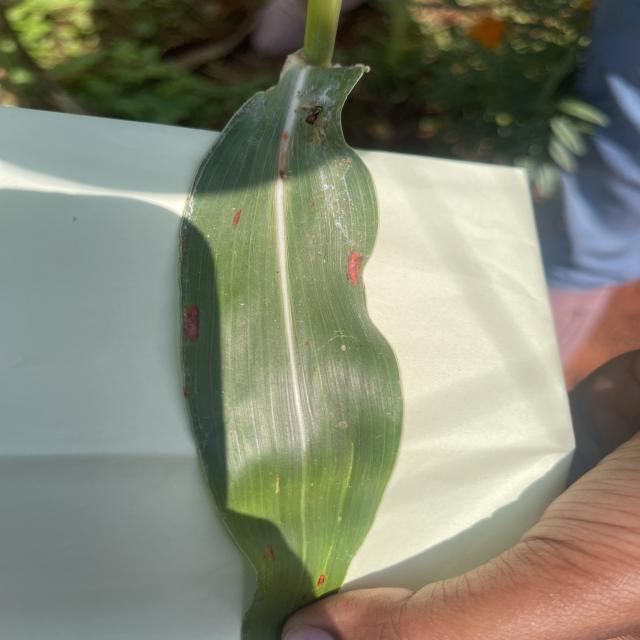millet_healthy: (180, 0, 402, 640)
